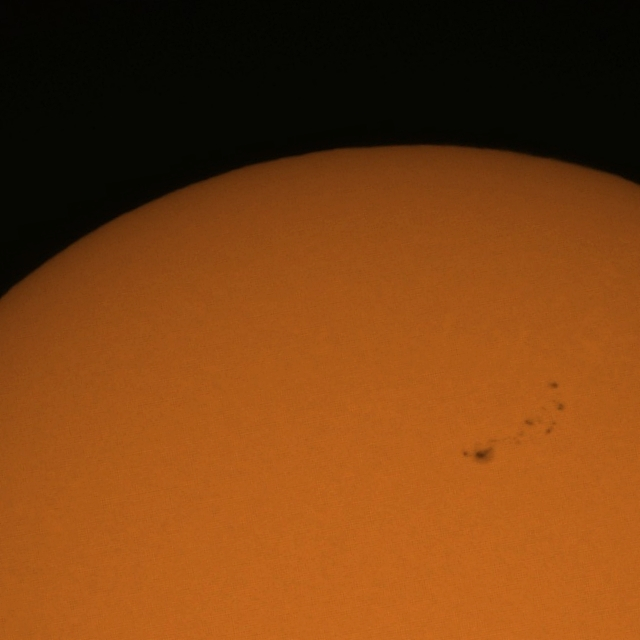sunspot: (523, 401, 563, 438), (461, 442, 495, 463), (548, 380, 564, 415), (552, 399, 566, 413), (548, 380, 560, 390)
